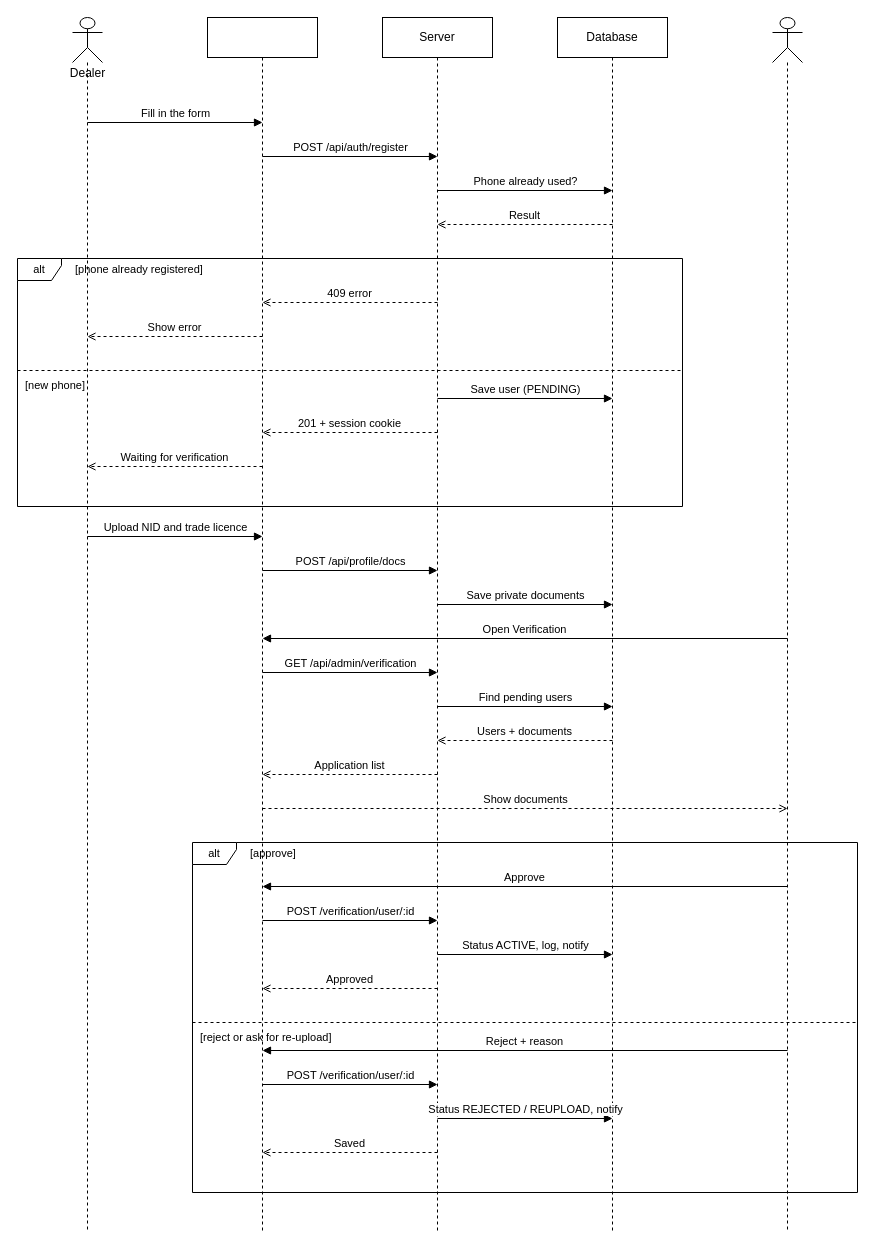
Some shapes in this 876 by 1250 pixel diagram are drawn without their labels. Here are the shapes that lost their labels. From the top down, the box of each, then its label:
(206, 16, 318, 1232): Web App
(772, 16, 802, 1232): Admin
